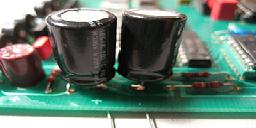Electrolytic Capacitor: (121, 1, 192, 104), (45, 2, 119, 99)
